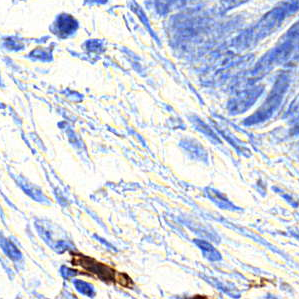Lymphocyte: (68, 249, 136, 290)
